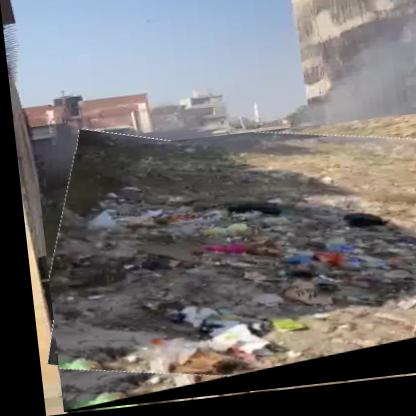Garbage: (32, 122, 416, 415)
